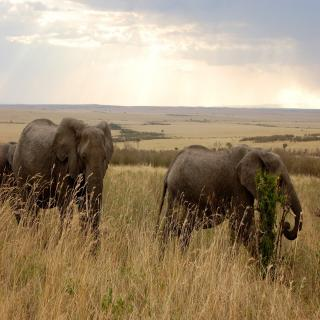Elephant: (157, 138, 305, 262), (10, 114, 120, 247)
